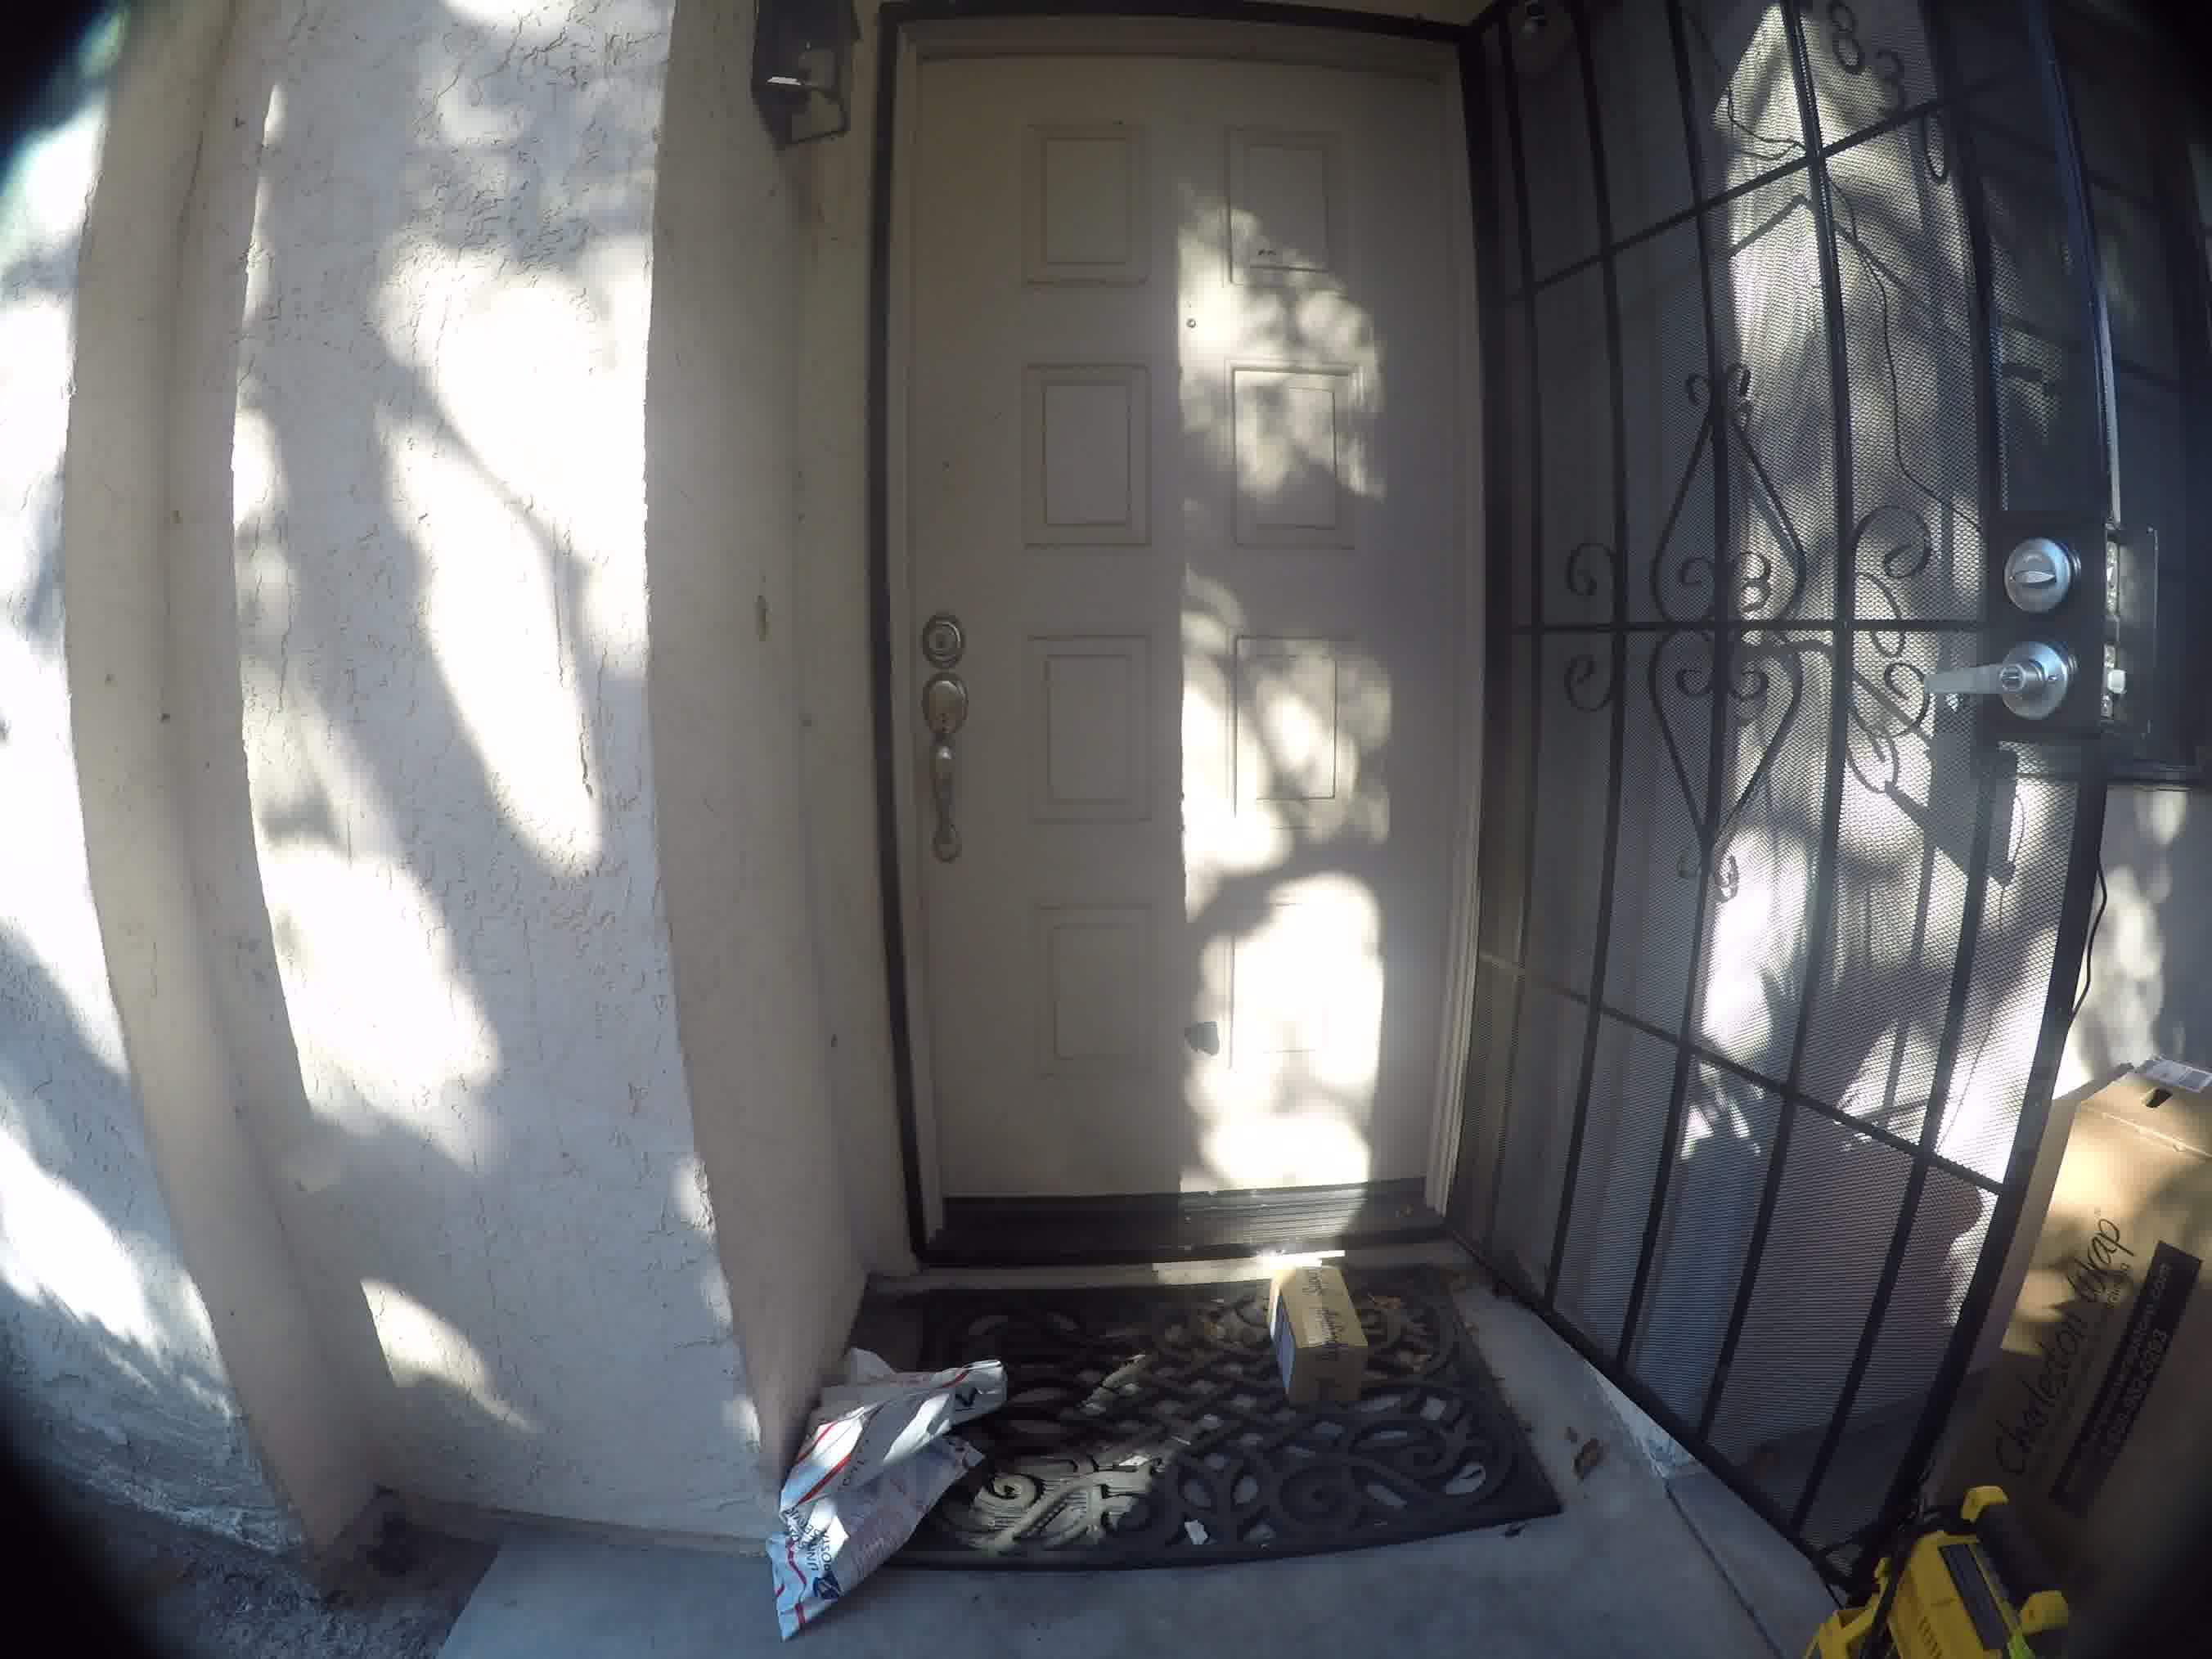box: (1252, 1237, 1366, 1399)
plastic_bag: (782, 1324, 1001, 1614)
